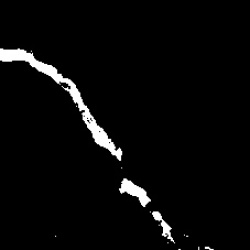crack: (2, 49, 177, 242)
